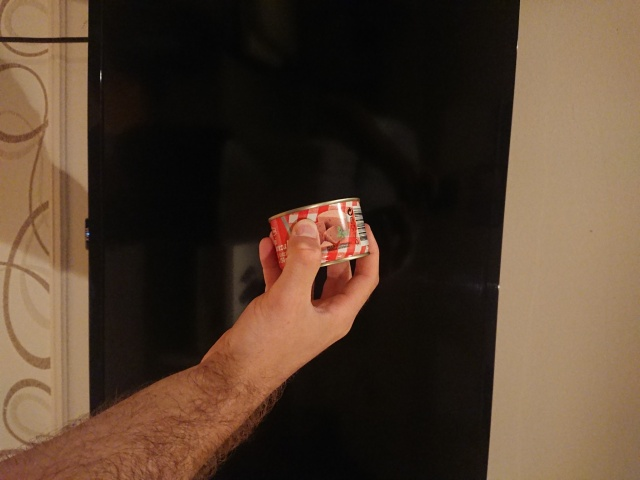Podravka Luncheon Meat 150g: (266, 194, 373, 277)
